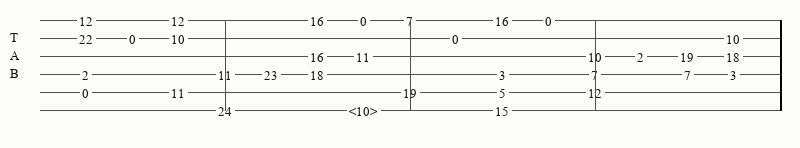0: (82, 86, 93, 99), (129, 32, 140, 45), (360, 14, 371, 27), (452, 32, 463, 45), (545, 14, 556, 27)
10: (171, 32, 189, 45), (588, 50, 606, 63), (726, 32, 744, 45)
11: (171, 86, 189, 99), (218, 68, 236, 81), (356, 50, 374, 63)
12: (79, 14, 97, 27), (171, 14, 189, 27), (588, 86, 606, 99)
15: (495, 104, 513, 117)
16: (310, 14, 328, 27), (310, 50, 328, 63), (495, 14, 513, 27)
18: (310, 68, 328, 81), (726, 50, 744, 63)
19: (403, 86, 421, 99), (680, 50, 698, 63)
2: (82, 68, 93, 81), (637, 50, 648, 63)
22: (79, 32, 97, 45)
23: (264, 68, 282, 81)
24: (218, 104, 236, 117)
3: (499, 68, 510, 81), (730, 68, 741, 81)
5: (499, 86, 510, 99)
7: (406, 14, 417, 27), (591, 68, 602, 81), (684, 68, 695, 81)
harmonic: (349, 104, 382, 117)
